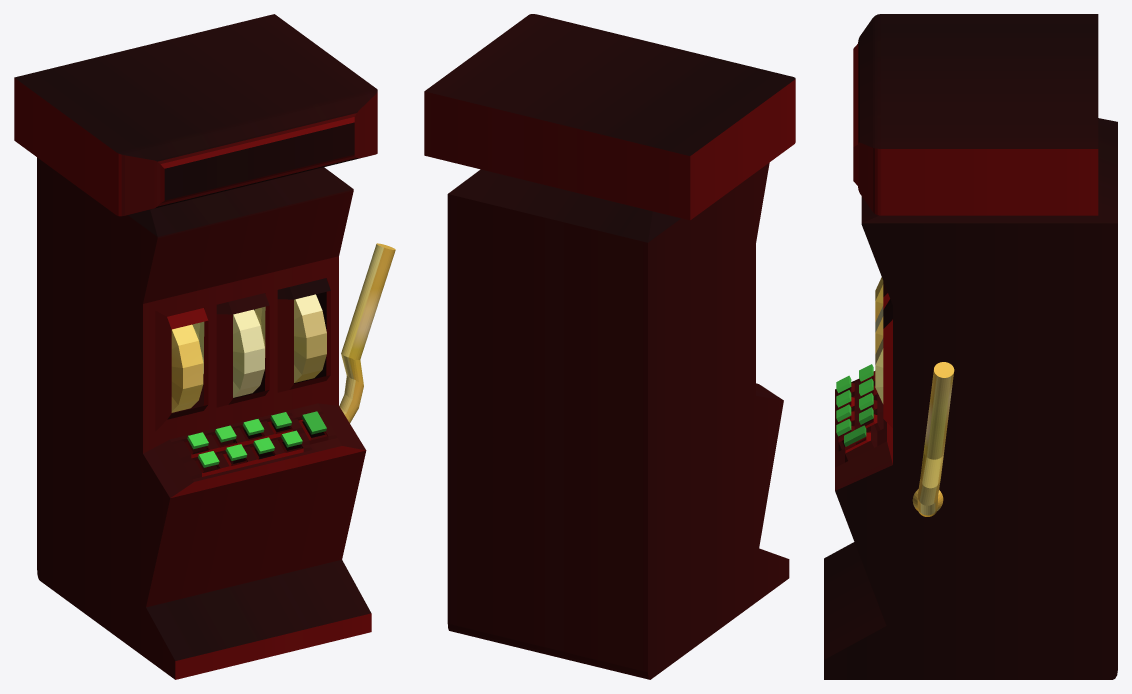
Rendered from SlotMachine.fbx.
3 renders of one model, left to right at view 1: azimuth 30°, elevation 25°; view 2: azimuth 150°, elevation 25°; view 3: azimuth 270°, elevation 25°, orthographic. The views are drawn at different scales.
Visible parts, largest first — view 1: Cube, Cube.002, Cube.001, Cube.003, Circle, RightSpinner, Middle Spinner, LeftSpinner; view 2: Cube; view 3: Cube, Circle.
Part boxes in pixels (bbox=[...]): Cube: bbox=[14, 14, 377, 679]; Cube.002: bbox=[146, 450, 365, 607]; Cube.001: bbox=[143, 190, 353, 303]; Cube.003: bbox=[164, 122, 354, 200]; Circle: bbox=[339, 243, 395, 422]; RightSpinner: bbox=[254, 299, 306, 382]; Middle Spinner: bbox=[192, 314, 244, 396]; LeftSpinner: bbox=[171, 330, 182, 411]; Cube: bbox=[424, 14, 795, 679]; Cube: bbox=[824, 14, 1117, 679]; Circle: bbox=[912, 362, 954, 516].
Size of the model in its own units: 335 by 538 by 261.
Materials: 5 (5 with a texture image).
